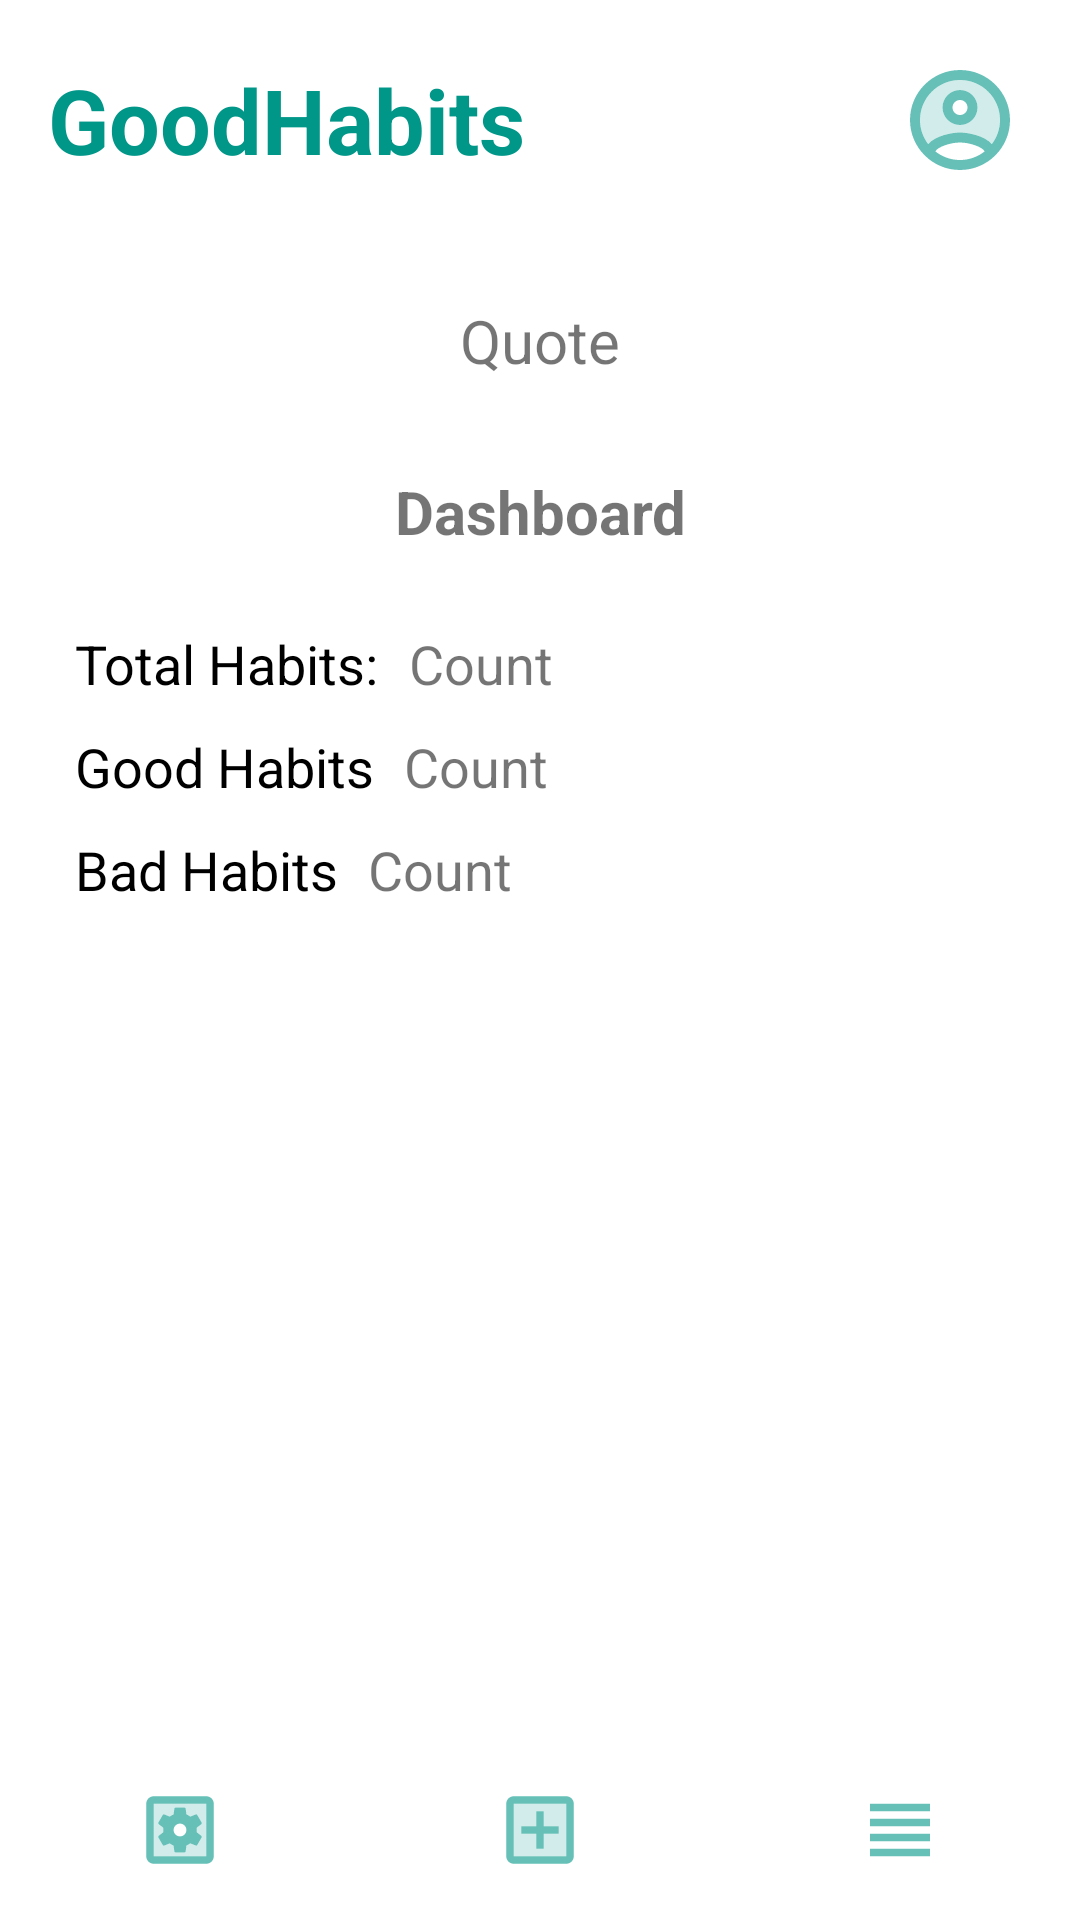

Point at icon controls on the screen. Image size 1080px×1920px, points as (x=x, y=y).
Add: (x=540, y=1830)
All Habits: (x=900, y=1830)
Profile: (x=960, y=120)
Settings: (x=180, y=1830)
